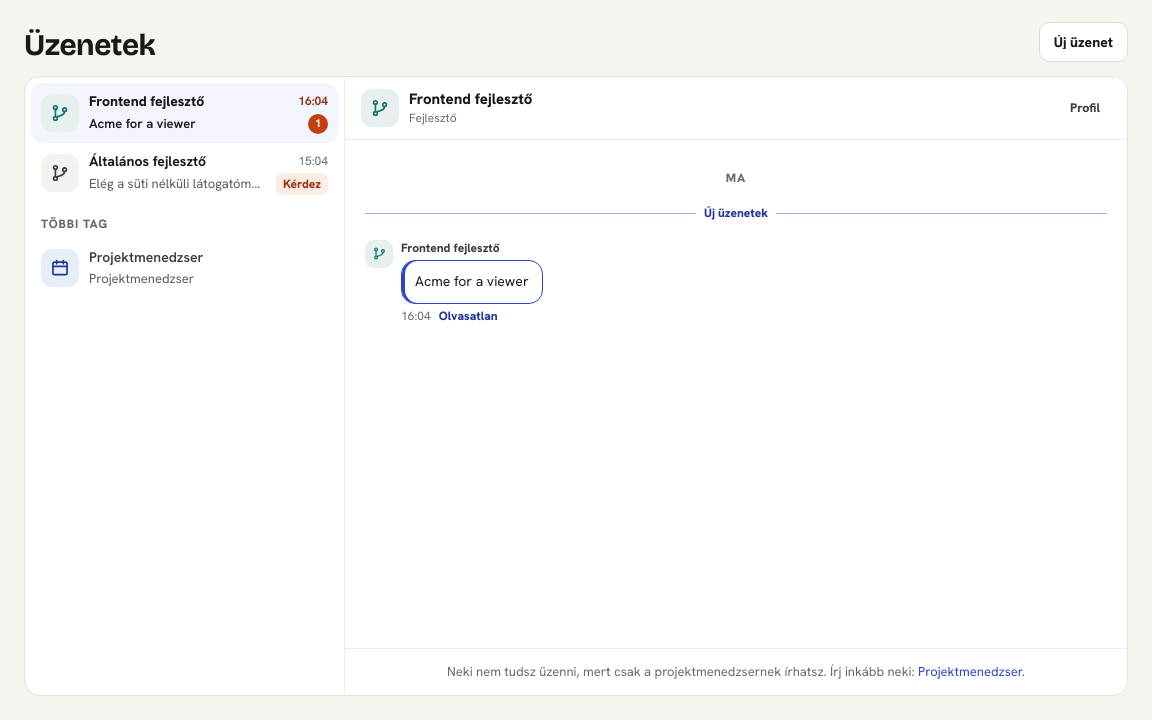
Scenario: a conversation › offers a viewer only the project manager, and points them to it from another thread (PM-1102)
This screenshot has width=1152, height=720.
Expected: the text "Acme for a viewer" below "Új üzenetek" is shown, left=415, top=272, right=529, bottom=290
What coordinates should you click on to do the following:
click the button "Új üzenet"
I would click on:
 (1083, 42)
Its box is left=1039, top=22, right=1128, bottom=62.
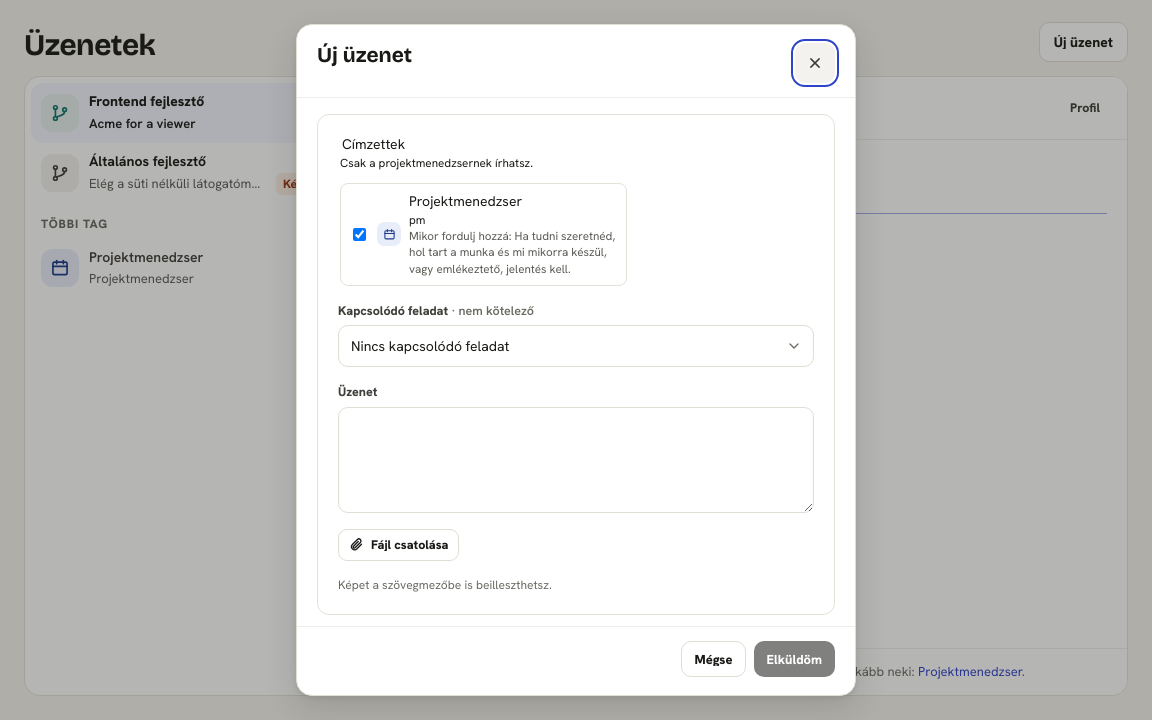
Expected: the number of checkboxes is 1, left=353, top=228, right=366, bottom=241
